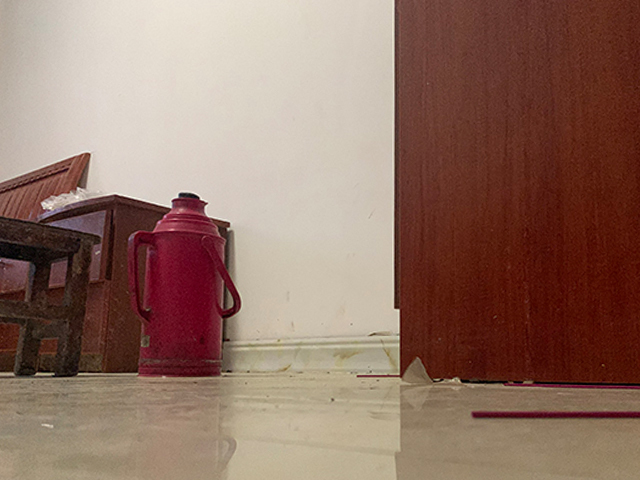cabinet: (35, 194, 148, 374)
stool: (1, 216, 101, 378)
